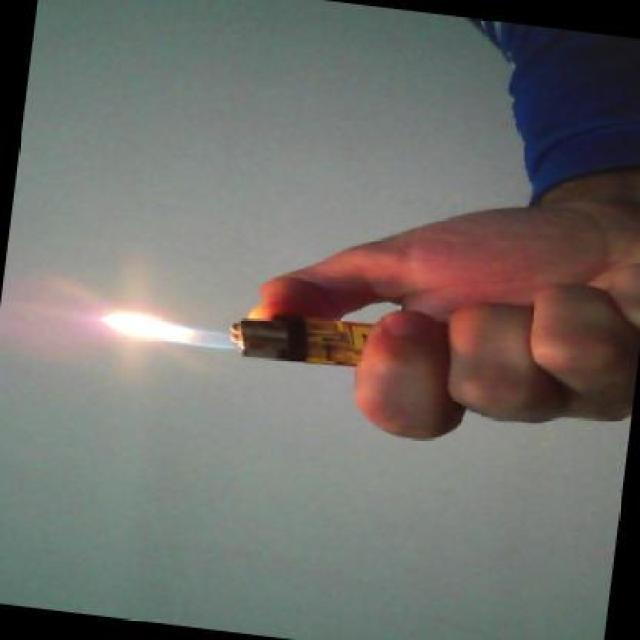Fire: (101, 298, 228, 370)
